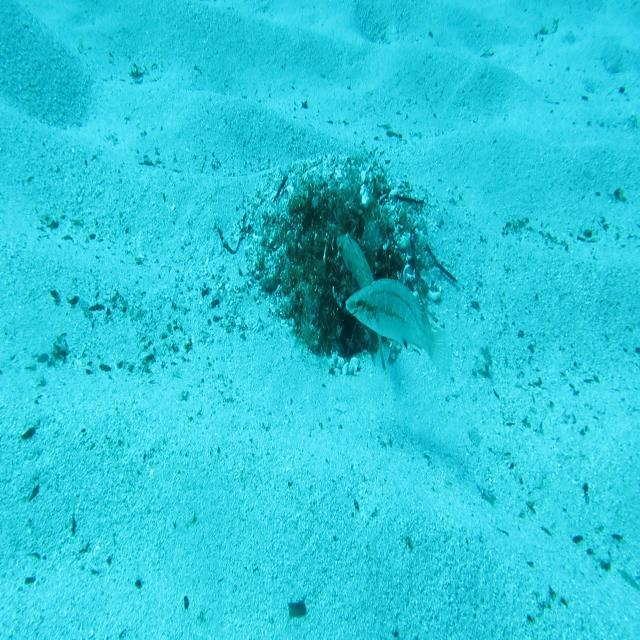ROLL: (334, 228, 388, 377)
core_nest: (314, 203, 365, 247)
female: (344, 274, 454, 382)
nest: (236, 136, 450, 390)
vegetation: (286, 601, 307, 621)
